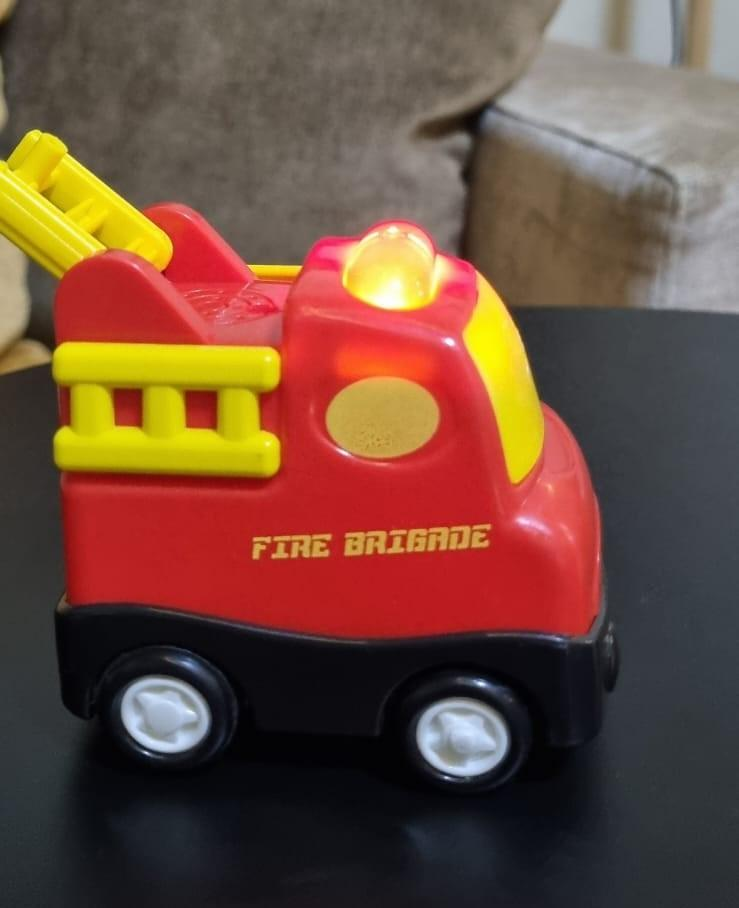firetruck_on: (0, 135, 616, 796)
